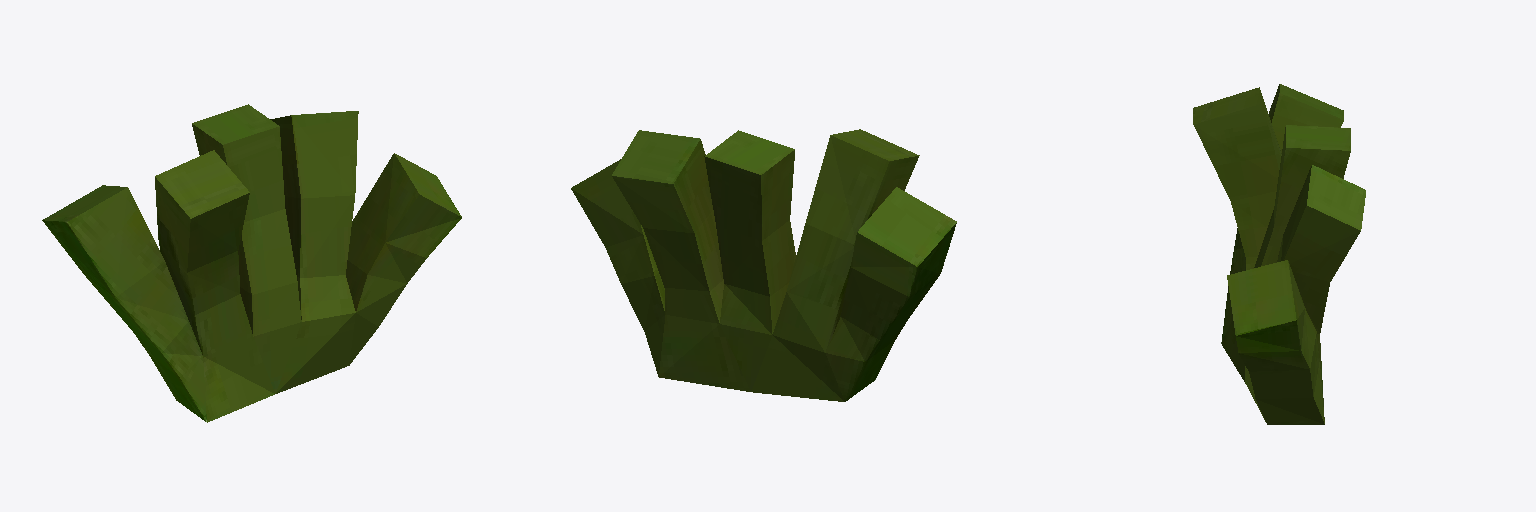
3 renders of one model, left to right at view 1: azimuth 30°, elevation 25°; view 2: azimuth 150°, elevation 25°; view 3: azimuth 270°, elevation 25°, orthographic.
Visible parts, largest first — view 1: FOL_Grass_04; view 2: FOL_Grass_04; view 3: FOL_Grass_04.
Part boxes in pixels (left/top/right/bottom): FOL_Grass_04: left=42, top=104, right=461, bottom=422; FOL_Grass_04: left=571, top=129, right=956, bottom=401; FOL_Grass_04: left=1193, top=84, right=1365, bottom=424.
Bounding box in the file's own units: 0.9661 × 0.6167 × 0.383.
Materials: 1 (1 with a texture image).